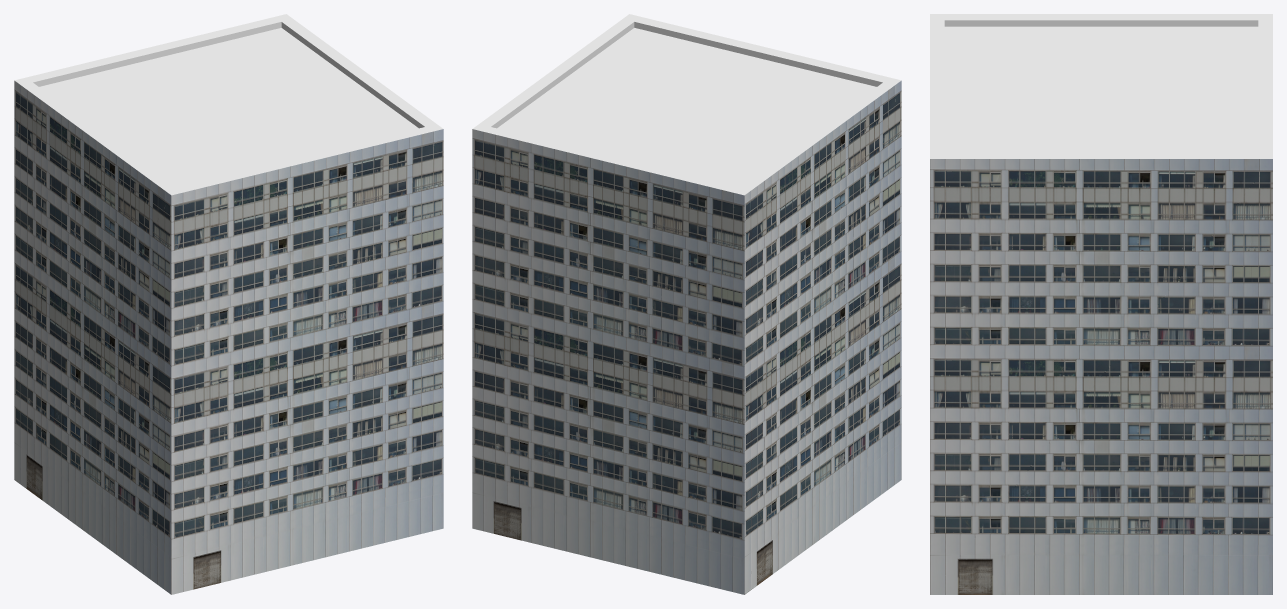
File: Building.FBX
The picture shows the model from 3 angles, left to right: view 1: azimuth 30°, elevation 25°; view 2: azimuth 150°, elevation 25°; view 3: azimuth 270°, elevation 25°; orthographic projection. The views are drawn at different scales.
Visible parts, largest first — view 1: Building; view 2: Building; view 3: Building.
Boxes of the visible parts, box(x1,y1,x2,y2) form: Building: box(14, 14, 443, 594); Building: box(472, 14, 901, 594); Building: box(930, 14, 1272, 594).
Bounding box in the file's own units: 3500 × 3500 × 4909.
1 material, 1 textured.
